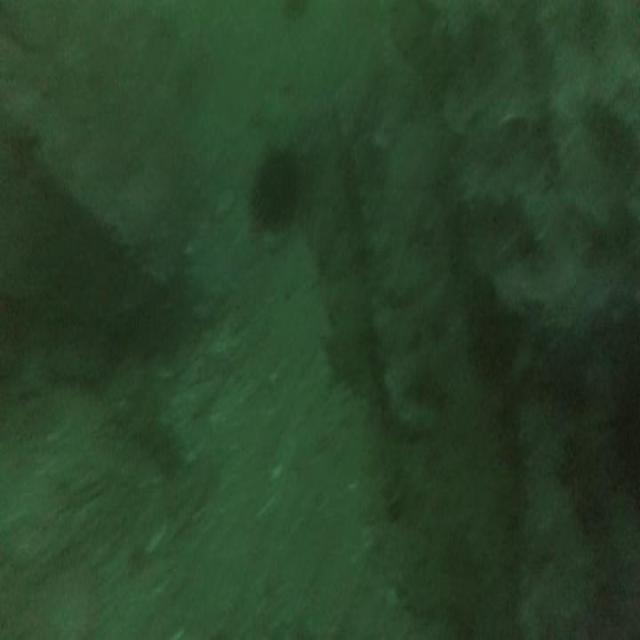echinus: (247, 136, 303, 245)
holothurian: (130, 403, 181, 476)
